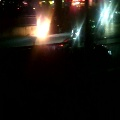fire: (30, 14, 51, 39)
